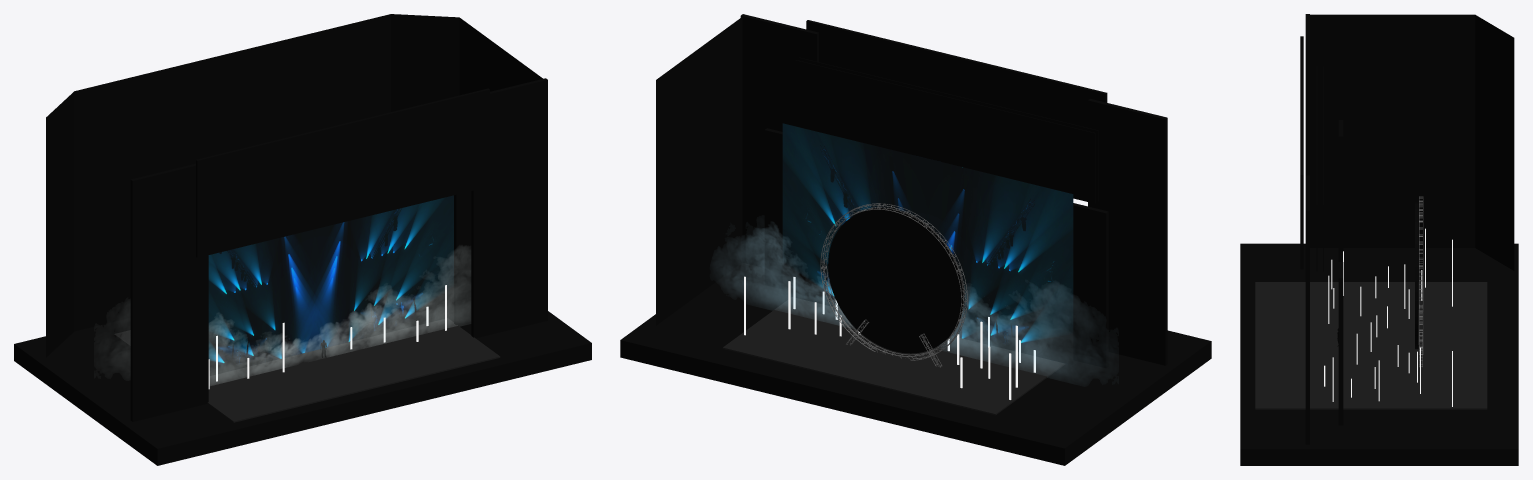
The picture shows the model from 3 angles, left to right: view 1: azimuth 30°, elevation 25°; view 2: azimuth 150°, elevation 25°; view 3: azimuth 270°, elevation 25°; orthographic projection. The views are drawn at different scales.
Parts seen in each view (by area): view 1: Env, Lights, Podium, Smoke, Poles; view 2: Env, Lights, Podium, Smoke, Truss, Poles; view 3: Env, Podium, Poles, Truss.
Boxes of the visible parts, x1=… form: Env: x1=14, y1=14, x2=591, y2=465; Lights: x1=208, y1=195, x2=453, y2=375; Podium: x1=114, y1=318, x2=500, y2=422; Smoke: x1=209, y1=256, x2=470, y2=384; Poles: x1=208, y1=285, x2=446, y2=389; Env: x1=620, y1=14, x2=1211, y2=465; Lights: x1=782, y1=123, x2=1073, y2=365; Podium: x1=722, y1=297, x2=1065, y2=415; Smoke: x1=734, y1=229, x2=1069, y2=372; Truss: x1=820, y1=203, x2=967, y2=367; Poles: x1=744, y1=276, x2=1035, y2=399; Env: x1=1240, y1=14, x2=1518, y2=465; Podium: x1=1255, y1=282, x2=1487, y2=409; Poles: x1=1324, y1=228, x2=1452, y2=406; Truss: x1=1418, y1=196, x2=1423, y2=367.
Bounding box in the file's own units: 519 × 302 × 297.
8 materials, 3 textured.
